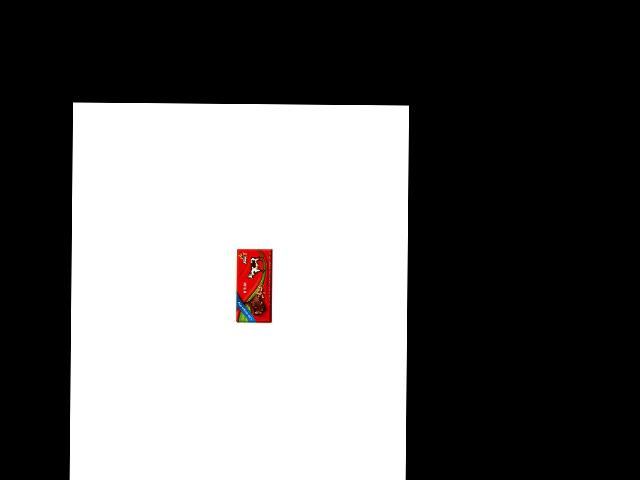chocolate: (235, 245, 271, 322)
